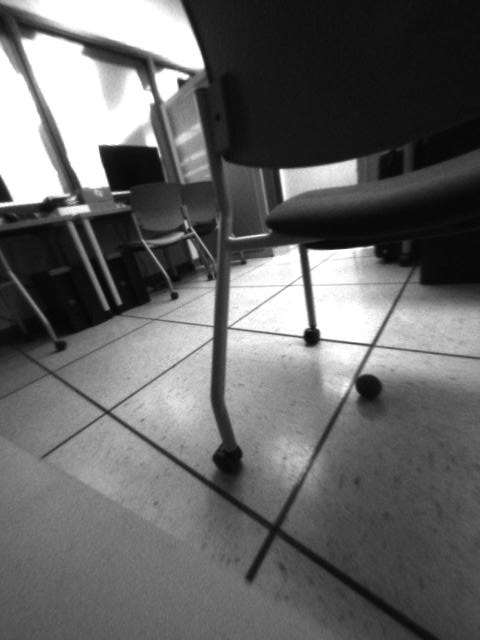dogtoy: (348, 367, 392, 408)
